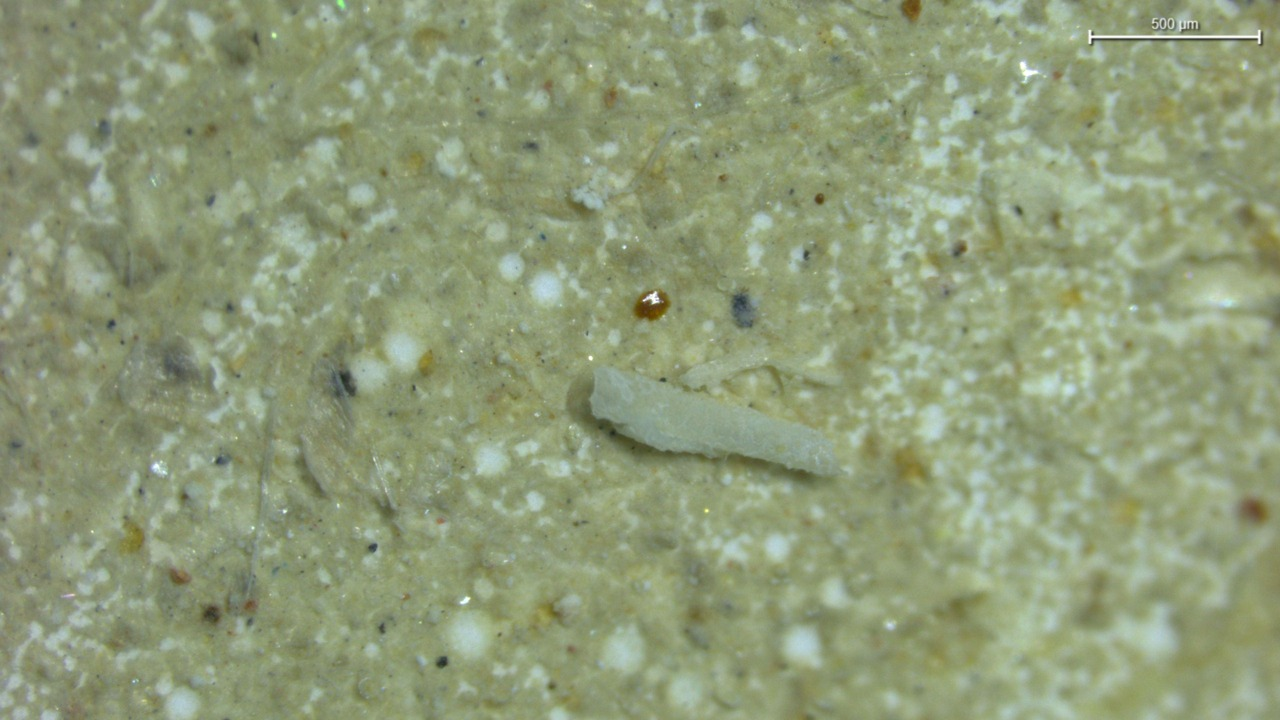microplastic_fragment: (589, 368, 841, 474)
